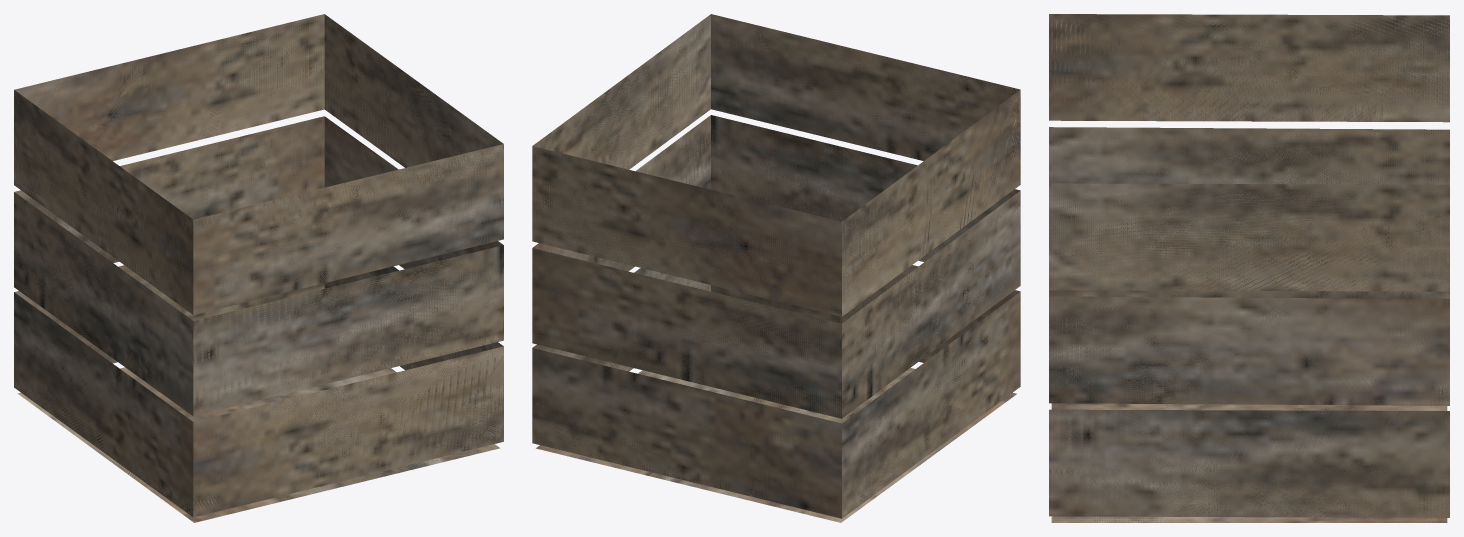
File: Crate2_LOD1.fbx
The picture shows the model from 3 angles, left to right: view 1: azimuth 30°, elevation 25°; view 2: azimuth 150°, elevation 25°; view 3: azimuth 270°, elevation 25°; orthographic projection. The views are drawn at different scales.
Parts seen in each view (by area): view 1: polySurface184; view 2: polySurface184; view 3: polySurface184.
Boxes of the visible parts, x1=… form: polySurface184: x1=14, y1=14, x2=503, y2=522; polySurface184: x1=532, y1=14, x2=1020, y2=522; polySurface184: x1=1049, y1=14, x2=1449, y2=522.
Size of the model in its own units: 1.01 by 0.9506 by 1.01.
